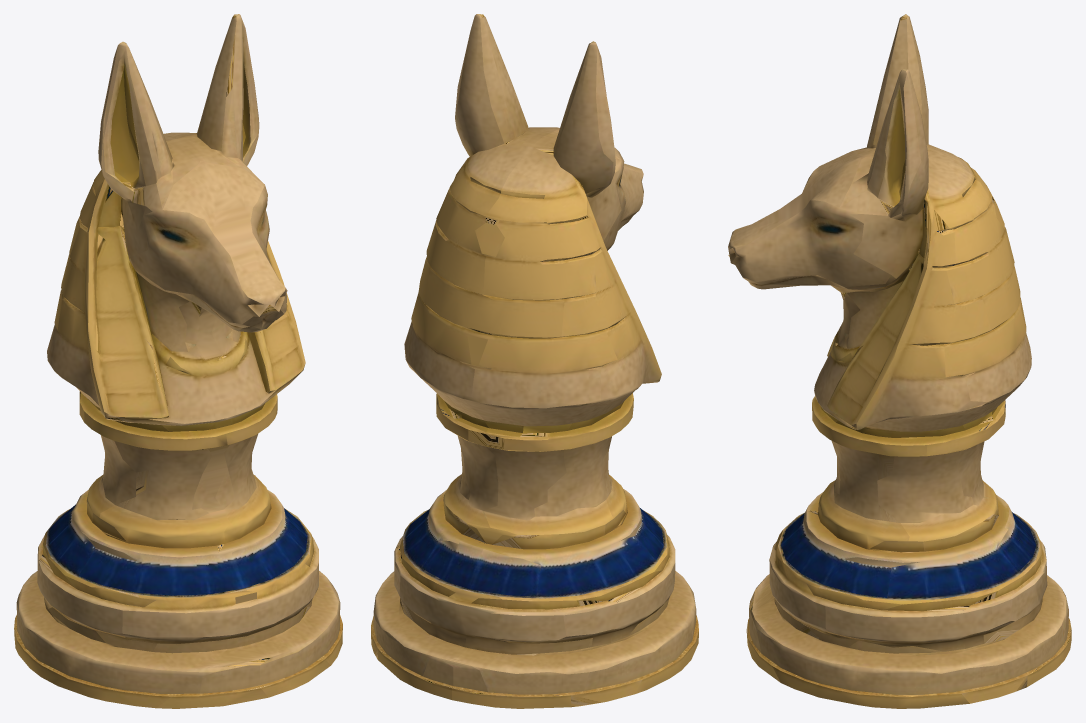
3 renders of one model, left to right at view 1: azimuth 30°, elevation 25°; view 2: azimuth 150°, elevation 25°; view 3: azimuth 270°, elevation 25°, orthographic. The views are drawn at different scales.
Visible parts, largest first — view 1: world; view 2: world; view 3: world.
Part boxes in pixels (<box>): world: <box>14,14,342,708</box>; world: <box>371,14,698,708</box>; world: <box>728,14,1071,708</box>.
Size of the model in its own units: 0.4881 by 1 by 0.5226.
Materials: 1 (1 with a texture image).
